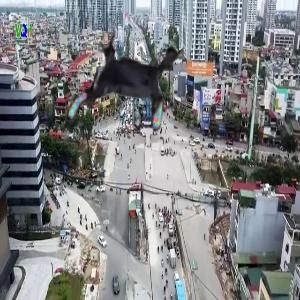drone: (67, 25, 187, 145)
